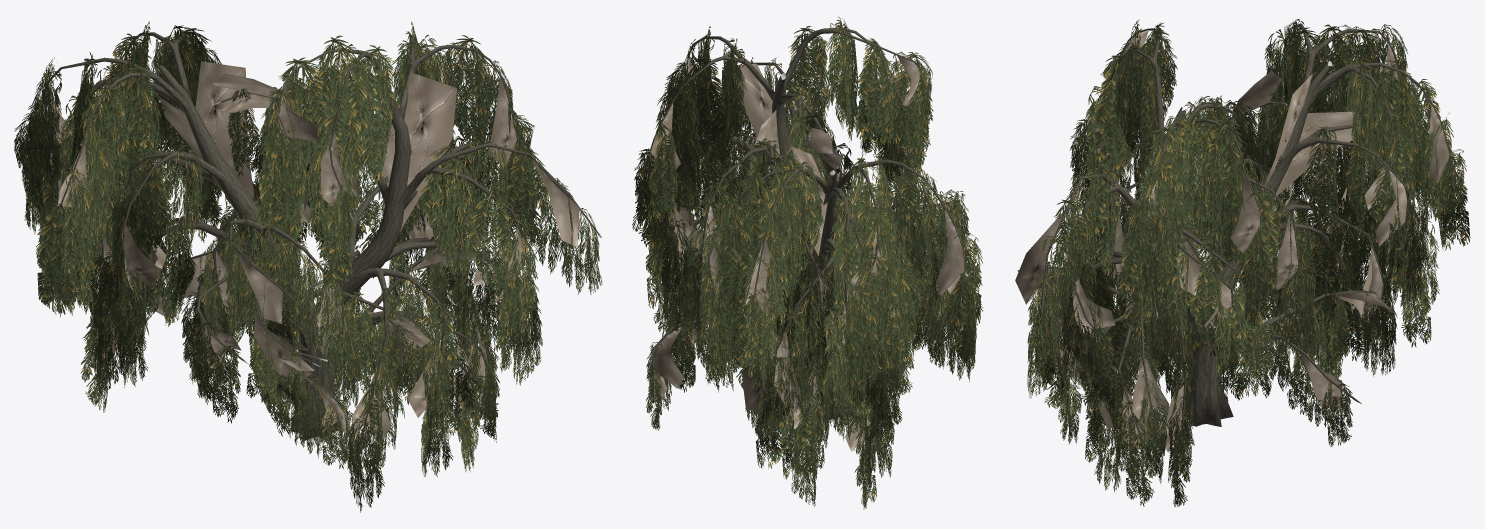
The model's file is MarshWillow_8.fbx.
3 views of the same model, side by side, from view 1: azimuth 30°, elevation 25°; view 2: azimuth 150°, elevation 25°; view 3: azimuth 270°, elevation 25° (orthographic). The views are drawn at different scales.
Visible parts, largest first — view 1: MarshWillow_8; view 2: MarshWillow_8; view 3: MarshWillow_8.
Part boxes in pixels (<box>): MarshWillow_8: <box>14,21,602,512</box>; MarshWillow_8: <box>632,16,983,509</box>; MarshWillow_8: <box>1015,19,1470,506</box>.
Size of the model in its own units: 36.35 by 36.42 by 35.59.
